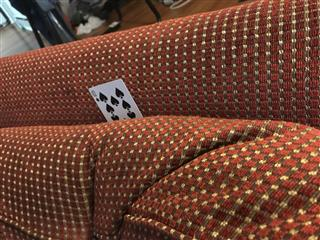TenOfSpades: (87, 77, 144, 121)
